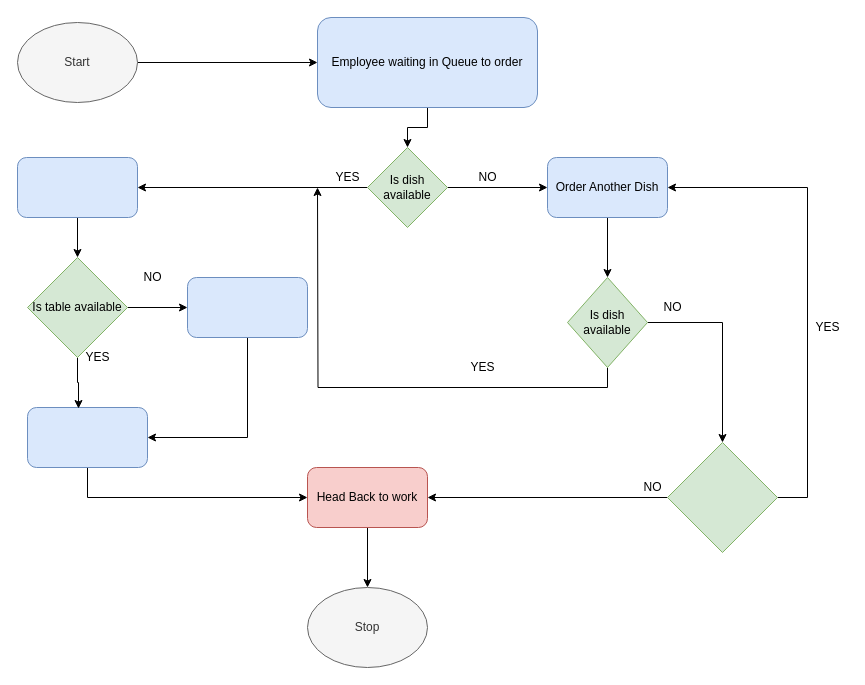
Image size: 865x685. Some labels were removed from this diagram. Each missing label, with the box of its shape:
Eat the meal: (26, 406, 148, 468)
Order the dish, pay for it and look for a table: (16, 156, 138, 218)
Wait for the table: (186, 276, 308, 338)
Want to order another dish: (666, 442, 778, 552)
